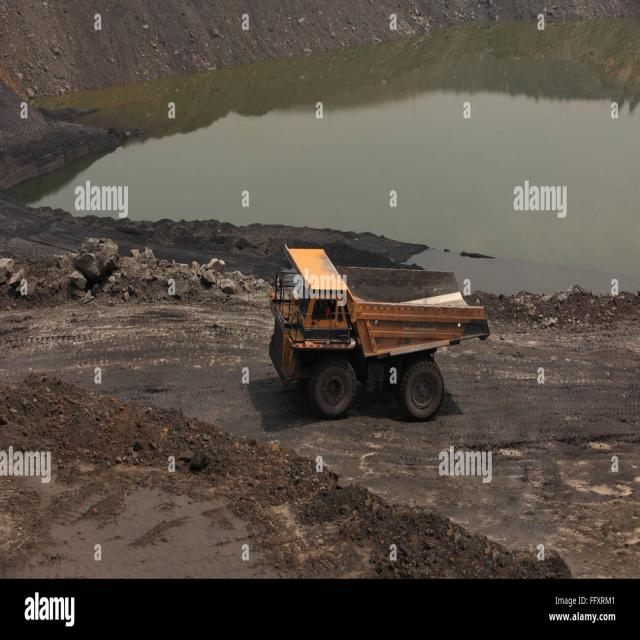dump_truck: (265, 240, 489, 439)
